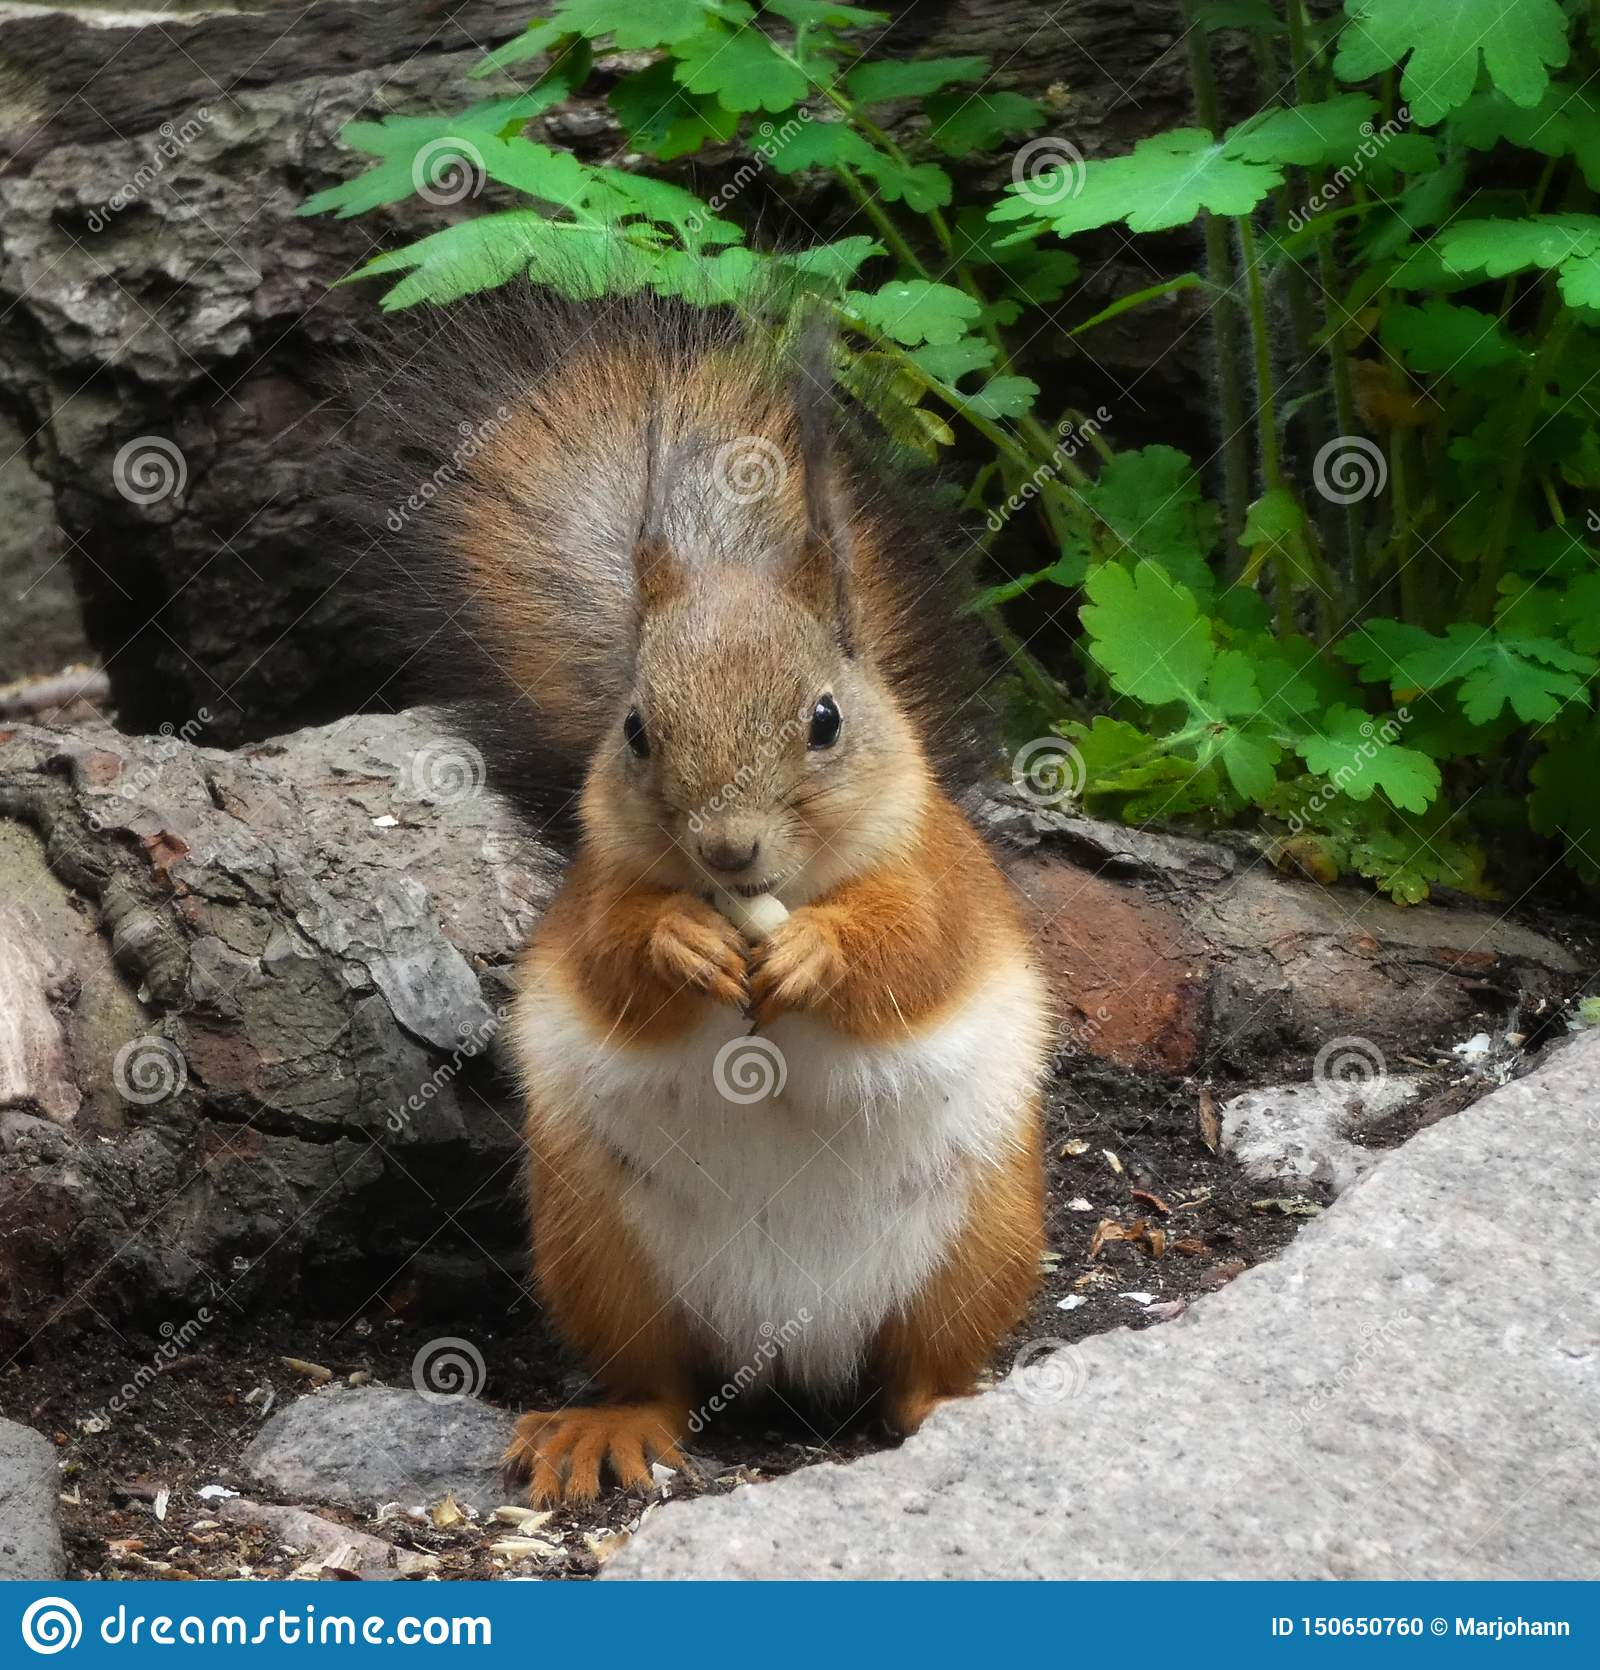Ardilla: (520, 526, 1138, 1437)
